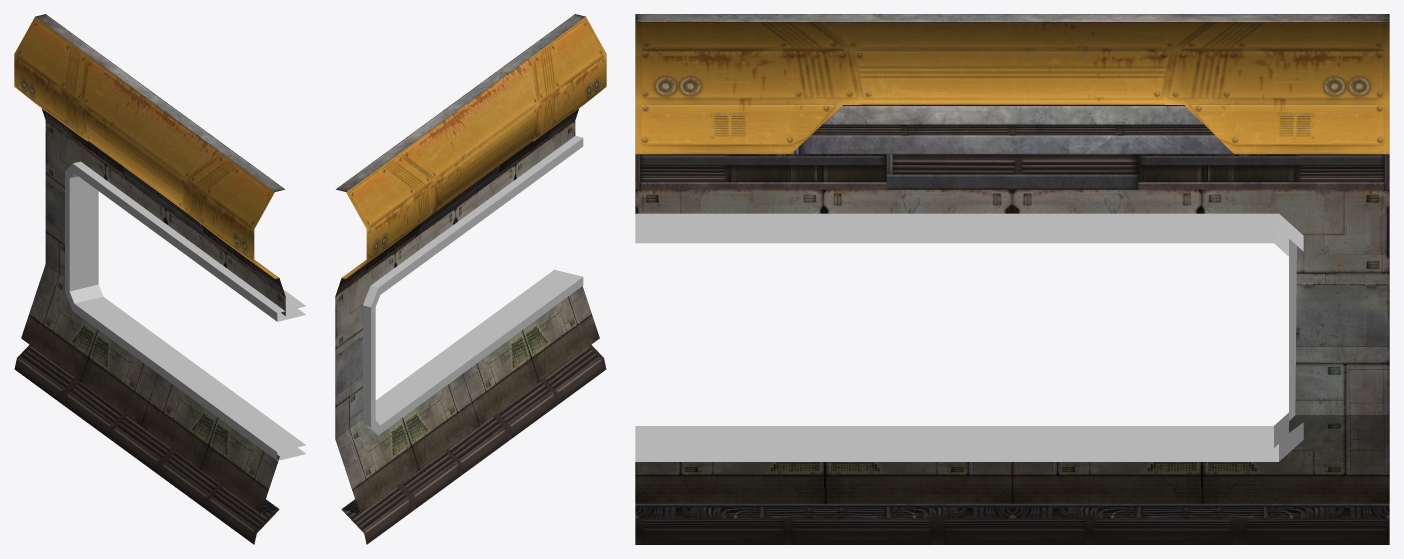
File: Wall_WallSideANew_21.fbx
3 views of the same model, side by side, from view 1: azimuth 30°, elevation 25°; view 2: azimuth 150°, elevation 25°; view 3: azimuth 270°, elevation 25° (orthographic). The views are drawn at different scales.
Visible parts, largest first — view 1: wall, window frame; view 2: wall, window frame; view 3: wall, window frame.
Part boxes in pixels (x1=…): wall: x1=14, y1=14, x2=285, y2=544; window frame: x1=65, y1=161, x2=305, y2=460; wall: x1=335, y1=14, x2=606, y2=544; window frame: x1=363, y1=136, x2=583, y2=435; wall: x1=635, y1=14, x2=1389, y2=544; window frame: x1=635, y1=213, x2=1303, y2=461.
Size of the model in its own units: 62.82 by 400 by 500.
